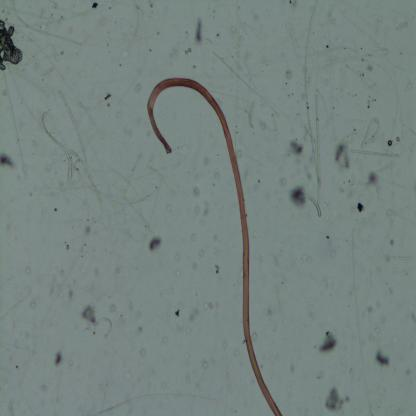Background material: (0, 18, 26, 70), (46, 260, 78, 298), (324, 385, 352, 411), (334, 139, 352, 173), (317, 328, 338, 354), (290, 184, 308, 211), (349, 149, 402, 158), (80, 302, 98, 325), (194, 16, 206, 45), (288, 136, 306, 155), (364, 168, 380, 189), (0, 152, 16, 171), (50, 350, 65, 370), (374, 350, 390, 368), (149, 236, 163, 253), (354, 196, 367, 214), (188, 306, 201, 321), (202, 150, 212, 168), (203, 297, 215, 311), (192, 184, 202, 200), (108, 302, 118, 316), (84, 225, 92, 238), (183, 45, 193, 55), (252, 327, 258, 343), (214, 262, 222, 274), (285, 66, 293, 78), (196, 249, 206, 258), (201, 360, 209, 371), (174, 307, 180, 319), (103, 92, 111, 101), (387, 138, 393, 148), (194, 205, 199, 217), (92, 1, 98, 11), (390, 238, 394, 247), (396, 136, 400, 142)
Glass filter fibre: (350, 228, 372, 413), (11, 0, 84, 47), (99, 389, 221, 414), (1, 72, 28, 183), (303, 0, 319, 175), (122, 150, 154, 236), (39, 110, 72, 180), (58, 91, 89, 162), (70, 148, 103, 213), (0, 284, 32, 325), (13, 66, 51, 97), (234, 1, 241, 124), (315, 94, 322, 206), (361, 119, 382, 150), (300, 192, 322, 219), (92, 317, 113, 340), (358, 45, 390, 59), (132, 1, 140, 38), (248, 100, 256, 128), (382, 254, 413, 260)
Microfibre: (146, 78, 283, 415)
